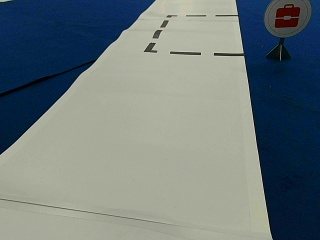company: (264, 0, 311, 36)
